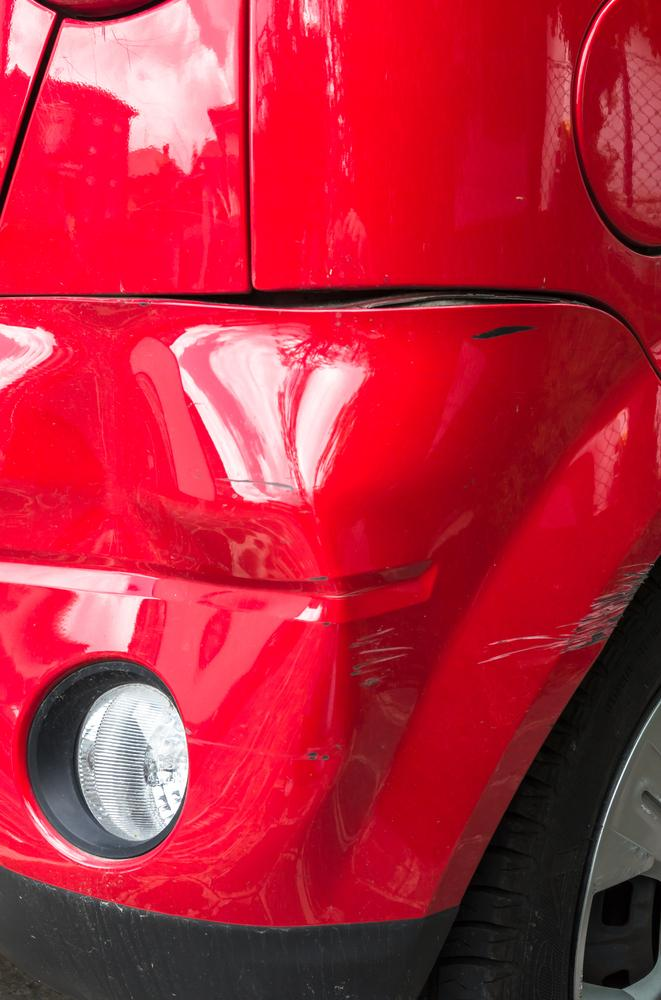dent: (3, 333, 336, 802)
scratch: (479, 556, 657, 666), (348, 627, 419, 693), (471, 324, 539, 341)
